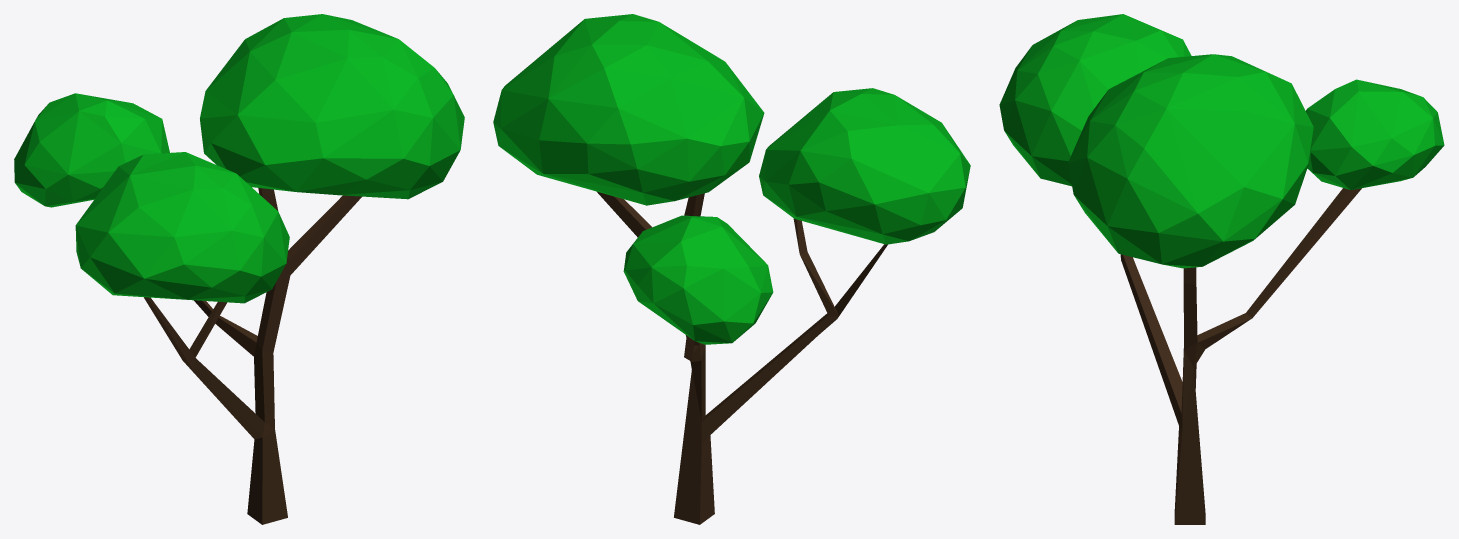
File: Tree4.fbx
3 views of the same model, side by side, from view 1: azimuth 30°, elevation 25°; view 2: azimuth 150°, elevation 25°; view 3: azimuth 270°, elevation 25° (orthographic). The views are drawn at different scales.
Visible parts, largest first — view 1: Tree4; view 2: Tree4; view 3: Tree4.
Boxes of the visible parts, <box> form: Tree4: <box>14,14,464,524</box>; Tree4: <box>493,14,970,524</box>; Tree4: <box>999,14,1444,524</box>.
Size of the model in its own units: 12.85 by 14.16 by 11.76.
